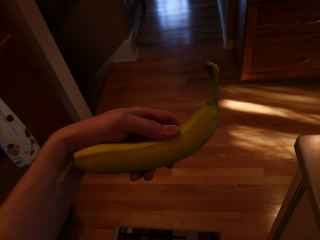banana: (69, 60, 224, 178)
